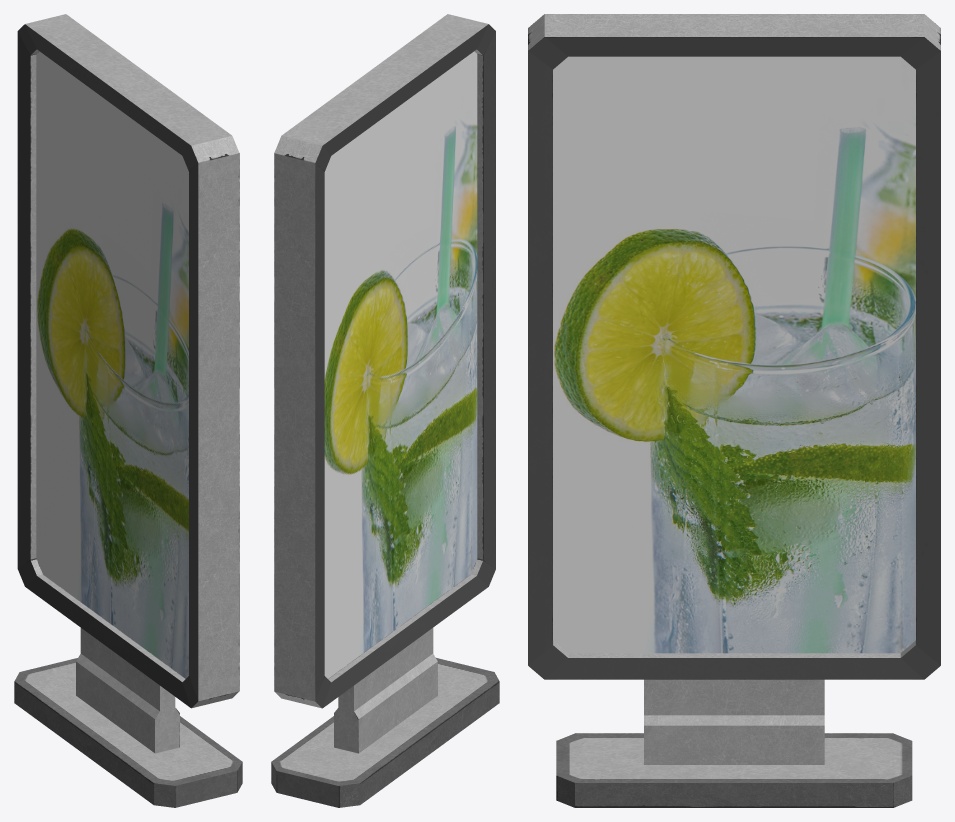
Rendered from Panel05.FBX.
3 views of the same model, side by side, from view 1: azimuth 30°, elevation 25°; view 2: azimuth 150°, elevation 25°; view 3: azimuth 270°, elevation 25° (orthographic). The views are drawn at different scales.
Parts seen in each view (by area): view 1: Panel05; view 2: Panel05; view 3: Panel05.
Part boxes in pixels (x1=…): Panel05: x1=14, y1=14, x2=242, y2=807; Panel05: x1=271, y1=14, x2=499, y2=807; Panel05: x1=528, y1=14, x2=940, y2=807.
Size of the model in its own units: 297 by 2125 by 1049.
